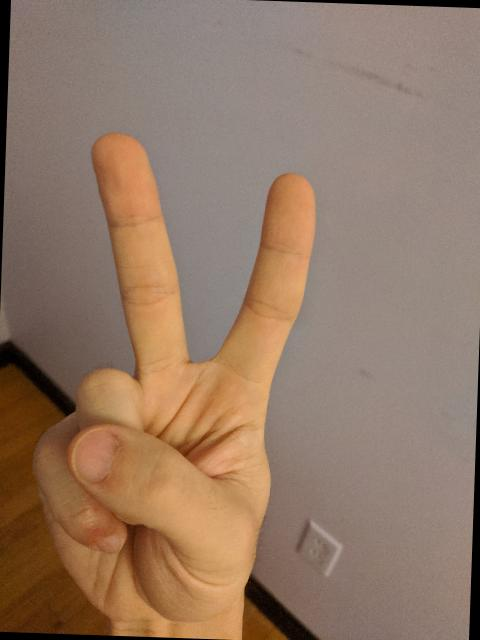V: (20, 125, 326, 640)
